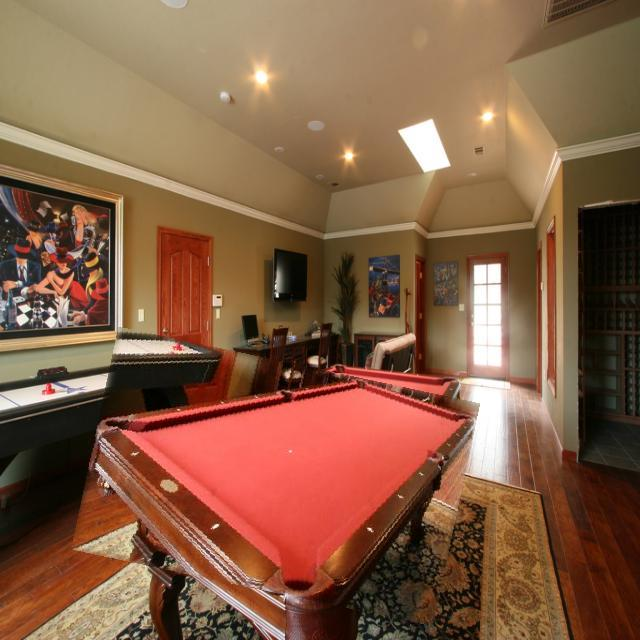Billiard table: (81, 345, 471, 609)
